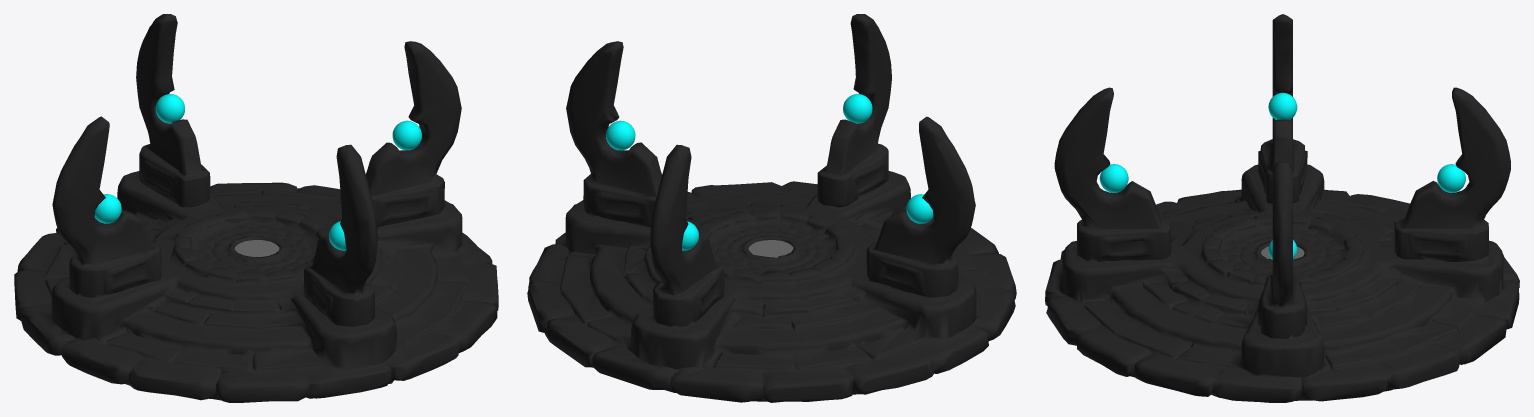
Rendered from SM_THERIFT_SH.fbx.
3 renders of one model, left to right at view 1: azimuth 30°, elevation 25°; view 2: azimuth 150°, elevation 25°; view 3: azimuth 270°, elevation 25°, orthographic. The views are drawn at different scales.
Parts seen in each view (by area): view 1: group30_pSphere5 (×3); view 2: group30_pSphere5 (×3); view 3: group30_pSphere5 (×2).
Boxes of the visible parts, left/top/right/bottom form: group30_pSphere5 (×3): left=14, top=14, right=498, bottom=402; group30_pSphere5 (×3): left=527, top=14, right=1016, bottom=402; group30_pSphere5 (×2): left=1045, top=14, right=1519, bottom=402.
Size of the model in its own units: 638 by 322 by 638.
